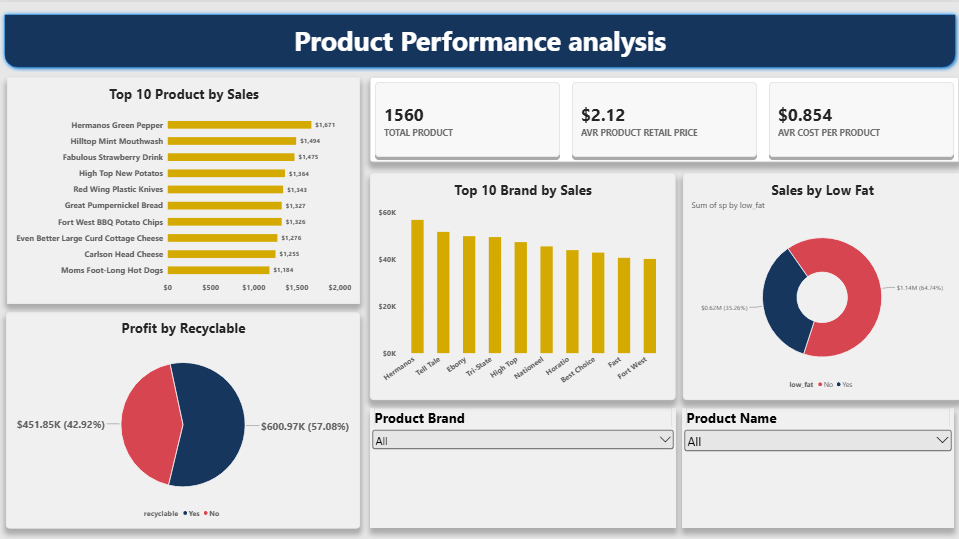

What the dashboard file says about the page in this screenshot:
{"tool":"powerbi","page":{"name":"Product Performance Dashborad","canvas":[1920,1080],"ordinal":1},"visuals":[{"type":"cardVisual","fields":{"Data":["Products.TOTAL PRODUCT","Products.AVR PRODUCT RETAIL PRICE","Products.AVR COST PER PRODUCT"]},"box":[739.4,151,1180.6,170.3],"z":0},{"type":"shape","box":[0,15.5,1920,123.9],"z":1000},{"type":"barChart","title":"Top 10 Product by Sales","fields":{"Category":["Products.product_name"],"Y":["Sum(Transactions.profit_per_order)"]},"box":[13.5,151,706.5,452.9],"z":3000},{"type":"columnChart","title":"Top 10 Brand by Sales","fields":{"Category":["Products.product_brand"],"Y":["Sum(Transactions.sp)"]},"box":[739.1,341.3,610.9,454.3],"z":4000},{"type":"pieChart","title":"Profit by Recyclable","fields":{"Category":["Products.recyclable"],"Y":["Transactions.PROFIT"]},"box":[12.6,619.8,708,433.4],"z":5000},{"type":"donutChart","title":"Sales by Low Fat","fields":{"Category":["Products.low_fat"],"Y":["Sum(Transactions.sp)"]},"box":[1365.2,341.3,556.5,454.3],"z":6000},{"type":"slicer","fields":{"Values":["Stores.store_state"]},"box":[1364.5,812.9,543.9,240],"z":7000},{"type":"slicer","fields":{"Values":["Products.product_brand"]},"box":[739.4,812.9,611.6,240],"z":8000}]}

Visuals, with their boxes in screenshot pixels (x1, y1, x2, y2), scaled from the page's 1920x1080 canvas onto the 959x539 screenshot:
cardVisual - Products.TOTAL PRODUCT x Products.AVR PRODUCT RETAIL PRICE: Rect(369, 75, 958, 160)
shape: Rect(0, 8, 958, 70)
"Top 10 Product by Sales" barChart: Rect(7, 75, 360, 301)
"Top 10 Brand by Sales" columnChart: Rect(369, 170, 674, 397)
"Profit by Recyclable" pieChart: Rect(6, 309, 360, 526)
"Sales by Low Fat" donutChart: Rect(682, 170, 958, 397)
slicer - Stores.store_state: Rect(682, 406, 953, 525)
slicer - Products.product_brand: Rect(369, 406, 675, 525)
